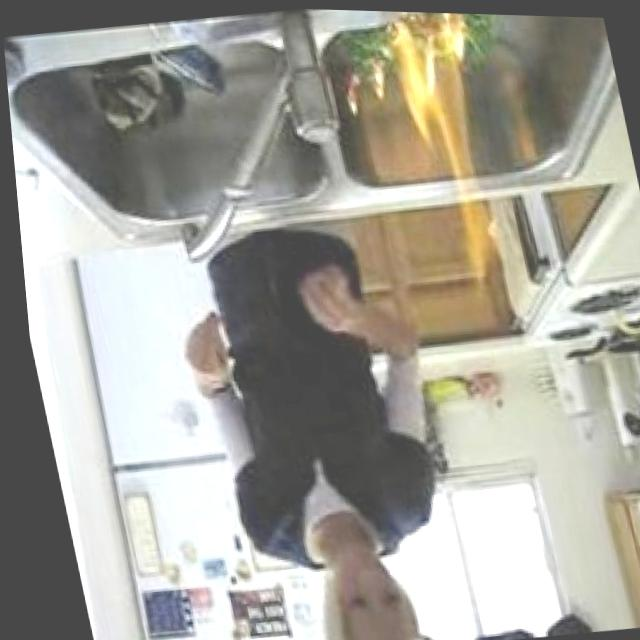helmet: (343, 15, 495, 254)
